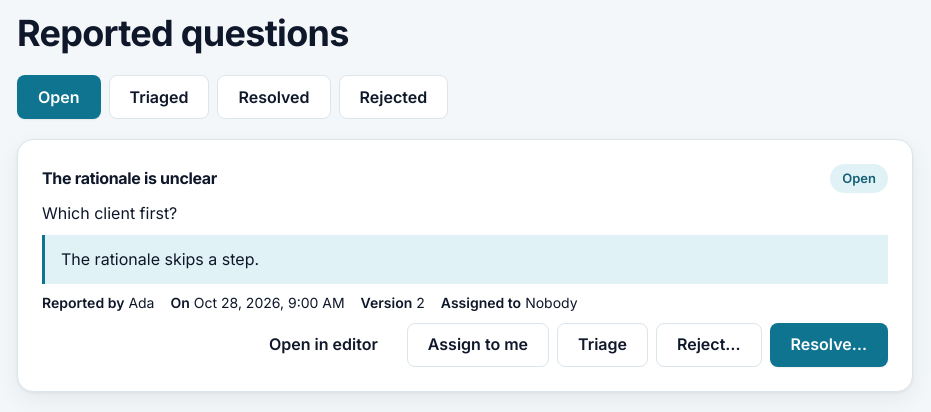
it: ModerationQueue › switches to another status
Check: the heading "The rationale is unclear" is shown, box [42,169,217,188]
Click the button "Triaged".
click(159, 97)  # box [108,75,209,119]
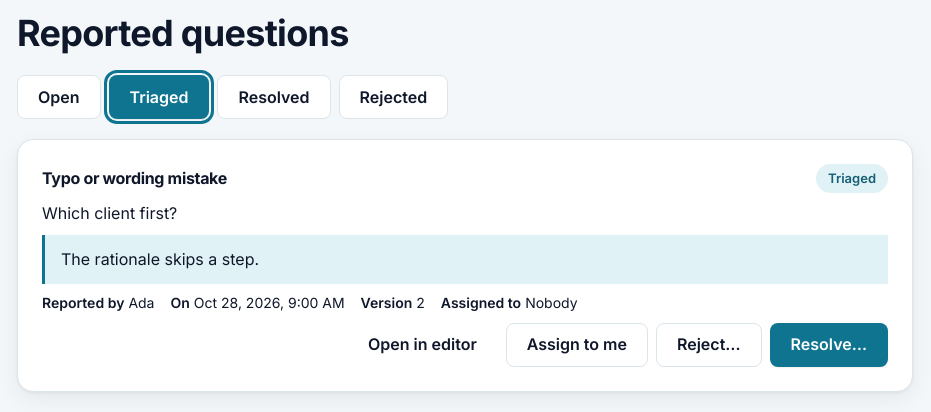
Check: the heading "Typo or wording mistake" is shown, box [42,169,227,188]
